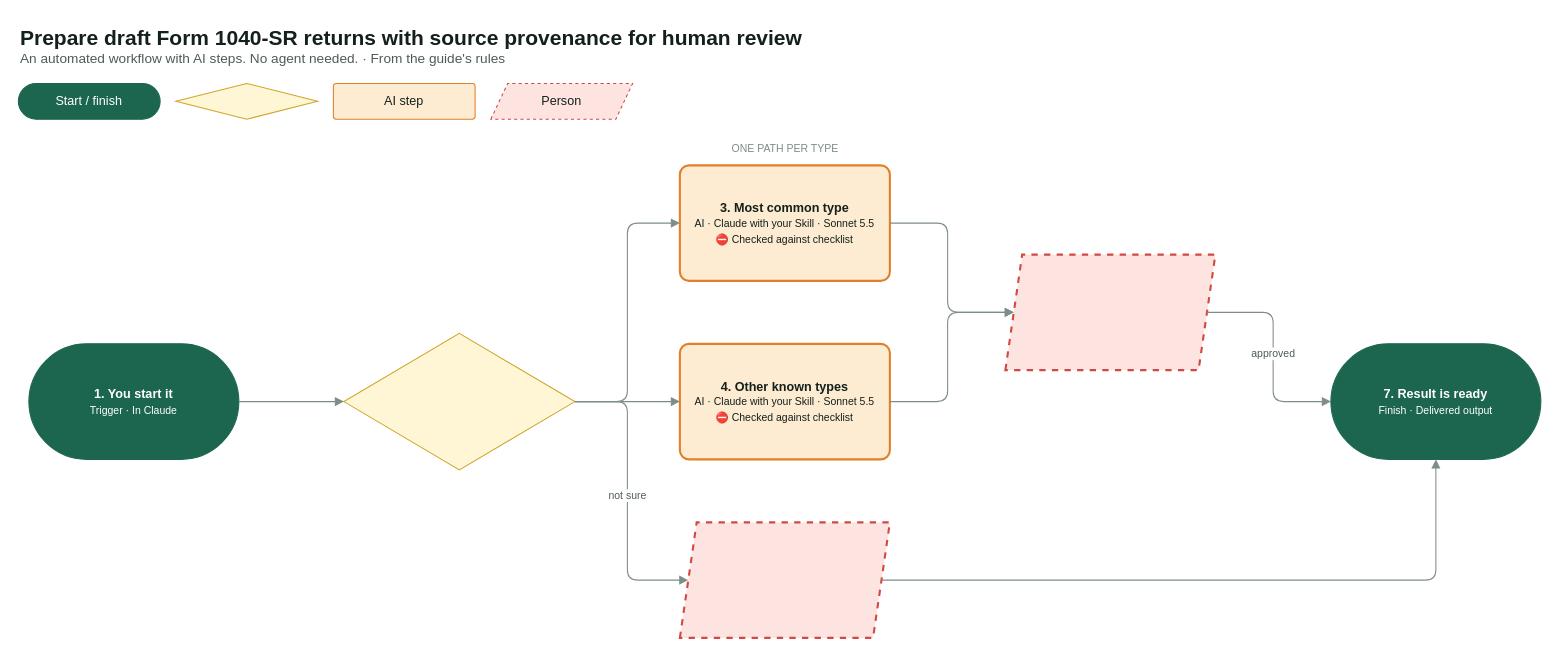
Image size: 1559x656. Some labels were removed from this diagram. Here are the shapes that lost their labels. From the top down, the centre of each, then its label:
At pixel 246 100: "Decision".
At pixel 1110 312: "6. You approve each result Person · Before anything goes out".
At pixel 459 401: "2. Sort by type Decision · Small, fast model · Sonnet 5.5".
At pixel 784 579: "5. Unclear items Person · Sent to a person".
